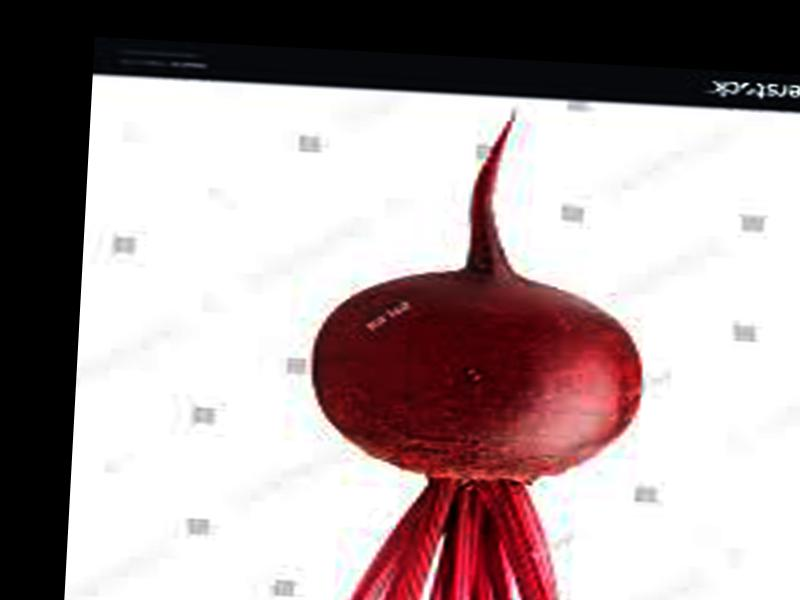Beet: (298, 100, 654, 600)
